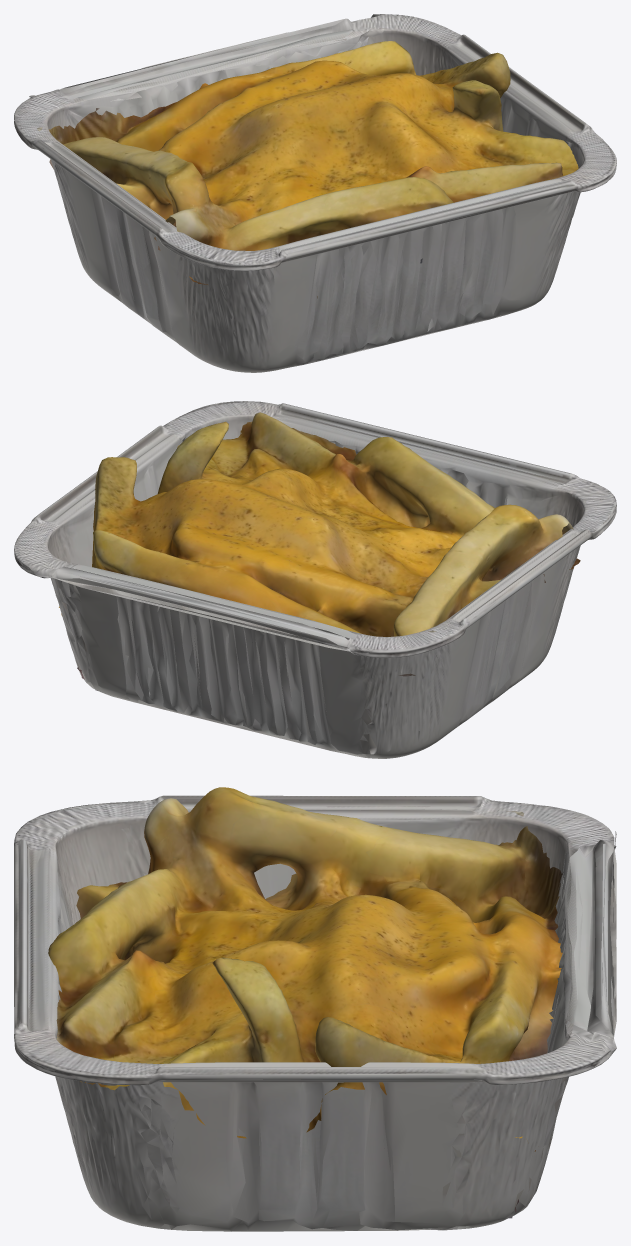
Rendered from Sib.panir.glb.
The picture shows the model from 3 angles, top to bottom: view 1: azimuth 30°, elevation 25°; view 2: azimuth 150°, elevation 25°; view 3: azimuth 270°, elevation 25°; orthographic projection. The views are drawn at different scales.
Parts seen in each view (by area): view 1: node_0, 3DModel; view 2: node_0, 3DModel; view 3: node_0, 3DModel.
Part boxes in pixels (left/top/right/bottom): node_0: left=14, top=14, right=616, bottom=372; 3DModel: left=37, top=41, right=578, bottom=298; node_0: left=14, top=401, right=616, bottom=758; 3DModel: left=59, top=412, right=580, bottom=690; node_0: left=14, top=795, right=616, bottom=1231; 3DModel: left=48, top=787, right=563, bottom=1218.
Bounding box in the file's own units: 0.1139 × 0.049 × 0.1048.
Materials: 2 (2 with a texture image).
